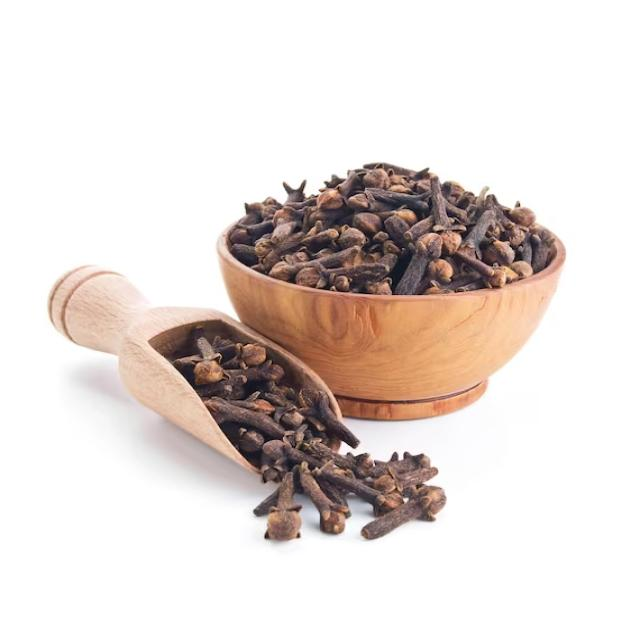clove: (175, 329, 446, 539), (230, 162, 556, 299)
